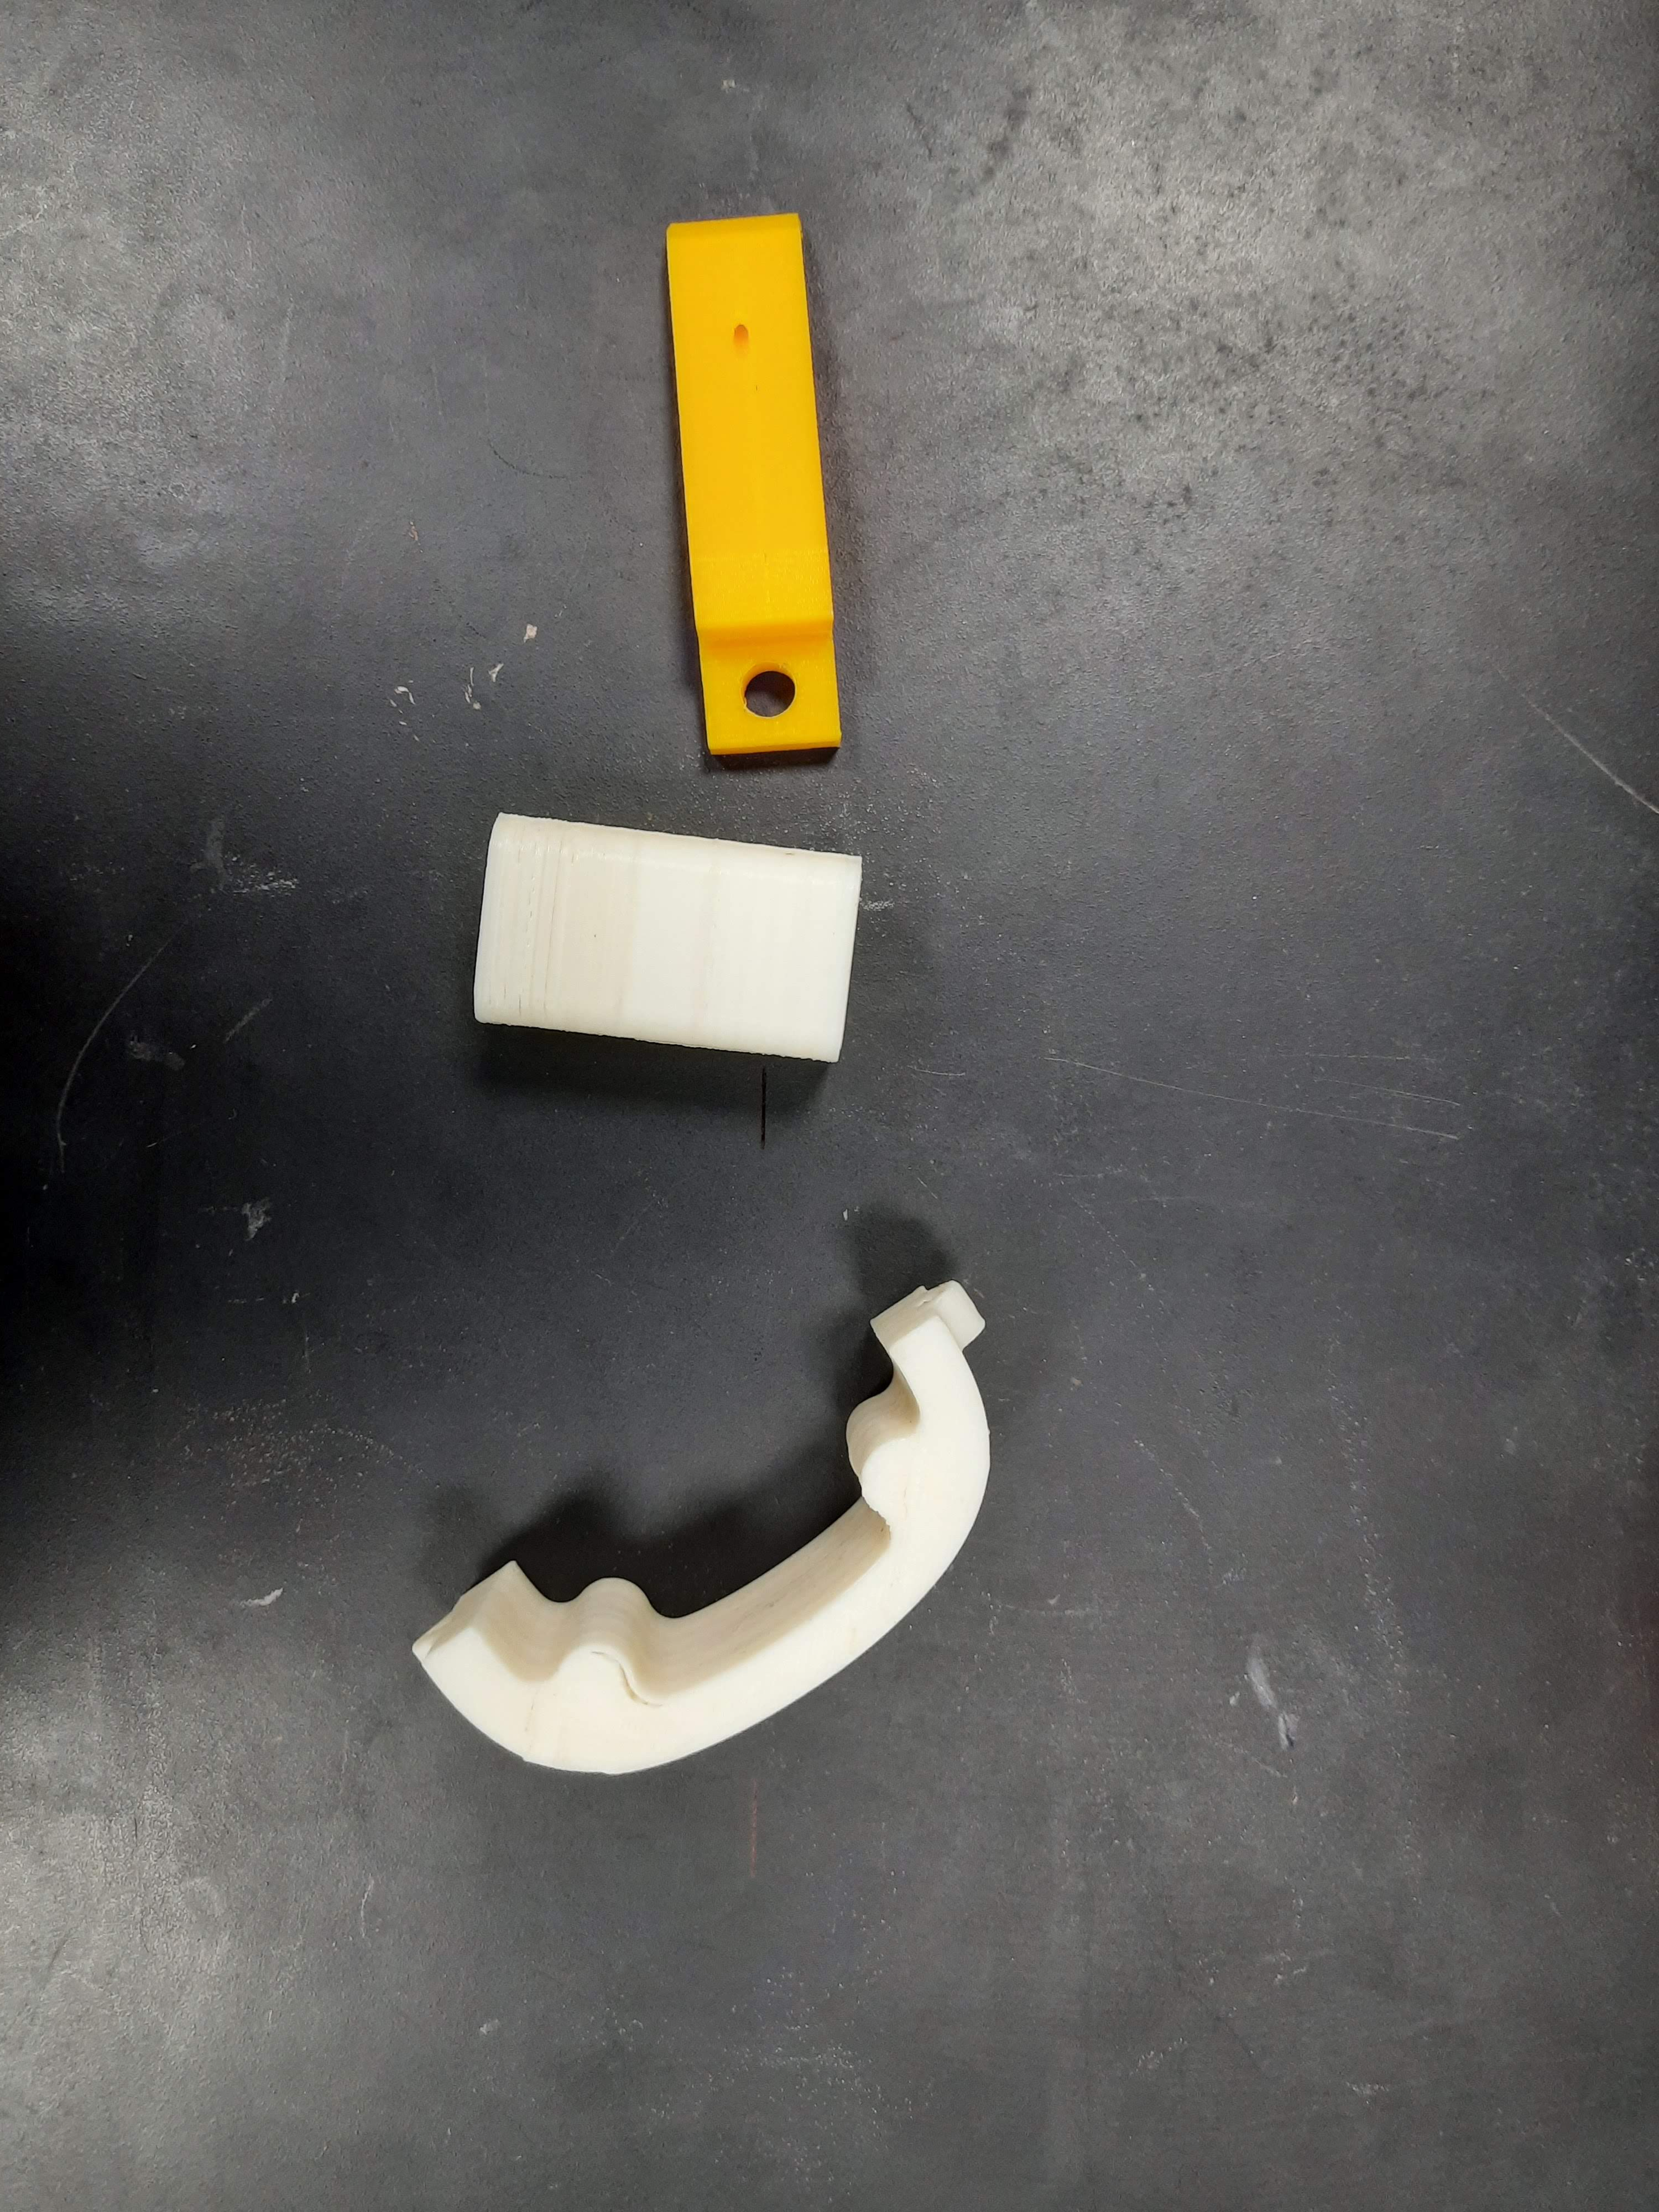ARC: (399, 1263, 1100, 1872)
CUBE: (474, 810, 866, 1062)
YELLOW: (659, 214, 845, 758)
